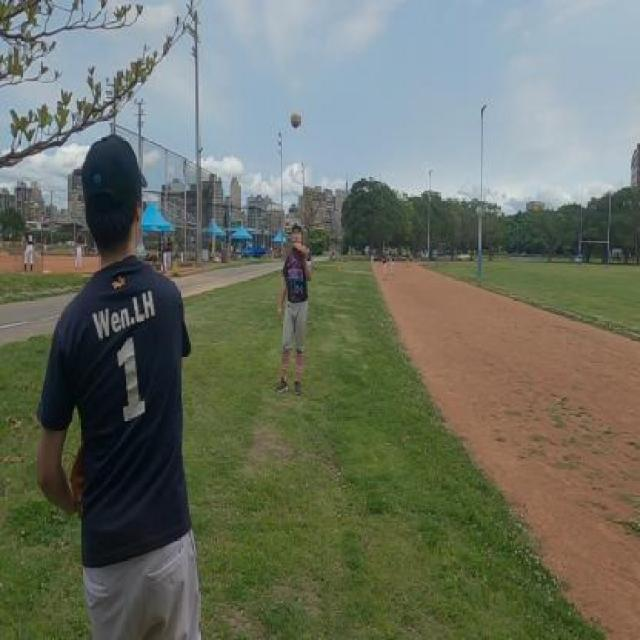baseball: (290, 110, 302, 128)
